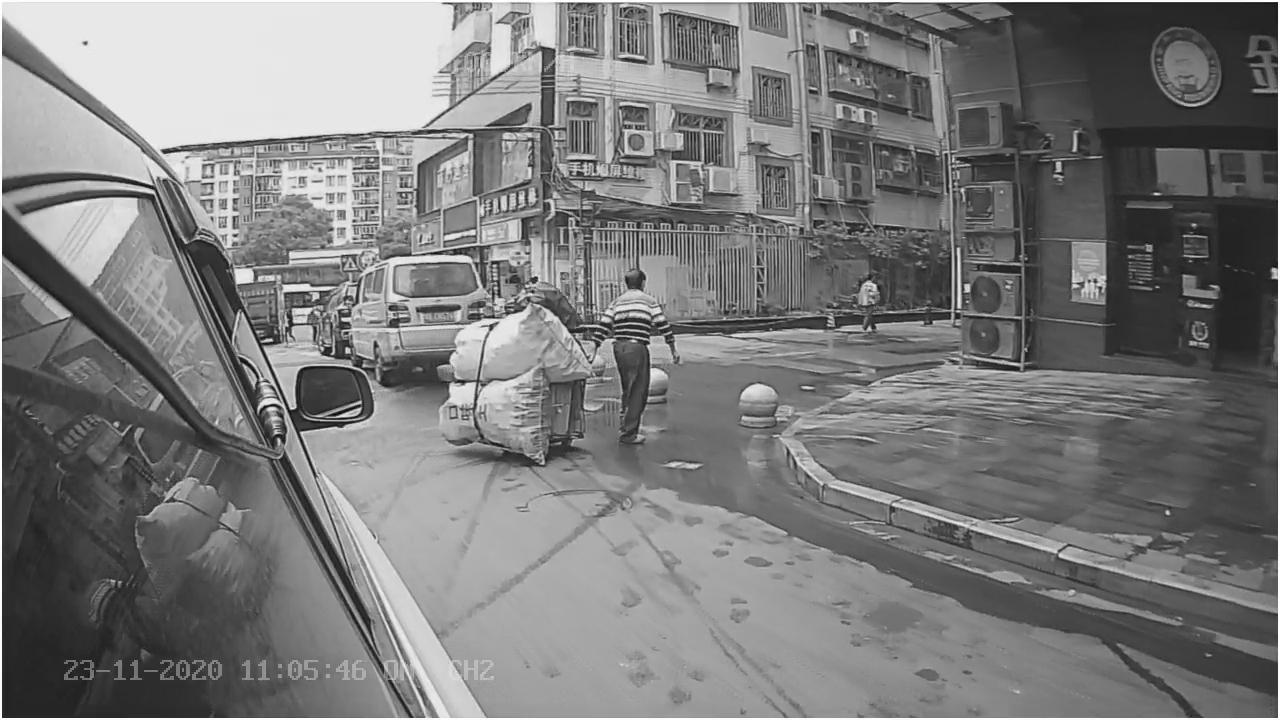person: (602, 267, 687, 445)
